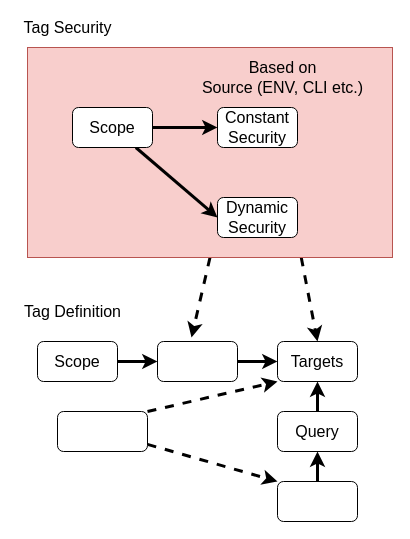
Image size: 410x539. Some labels were removed from this diagram. Here are the shapes that lost their labels. From the top down, the box of each, then its label:
(156, 340, 238, 382): Operations
(56, 410, 148, 452): Modifiers
(276, 480, 358, 522): Log F()
